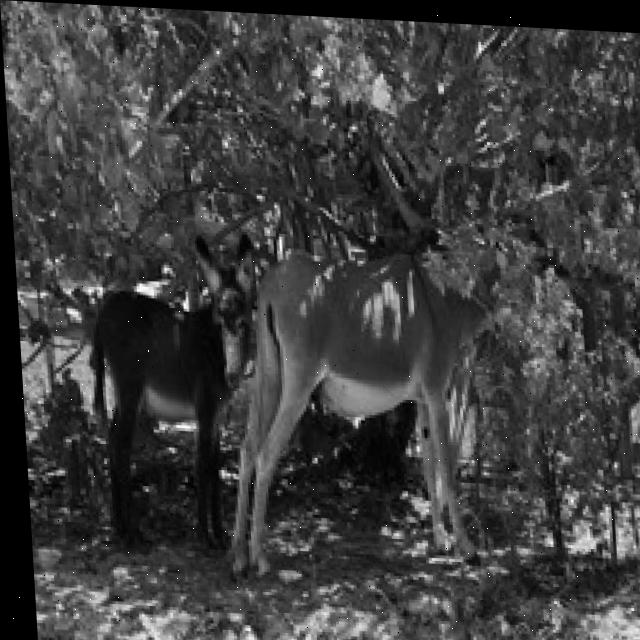Donkey: (196, 81, 640, 600), (79, 220, 272, 552)
